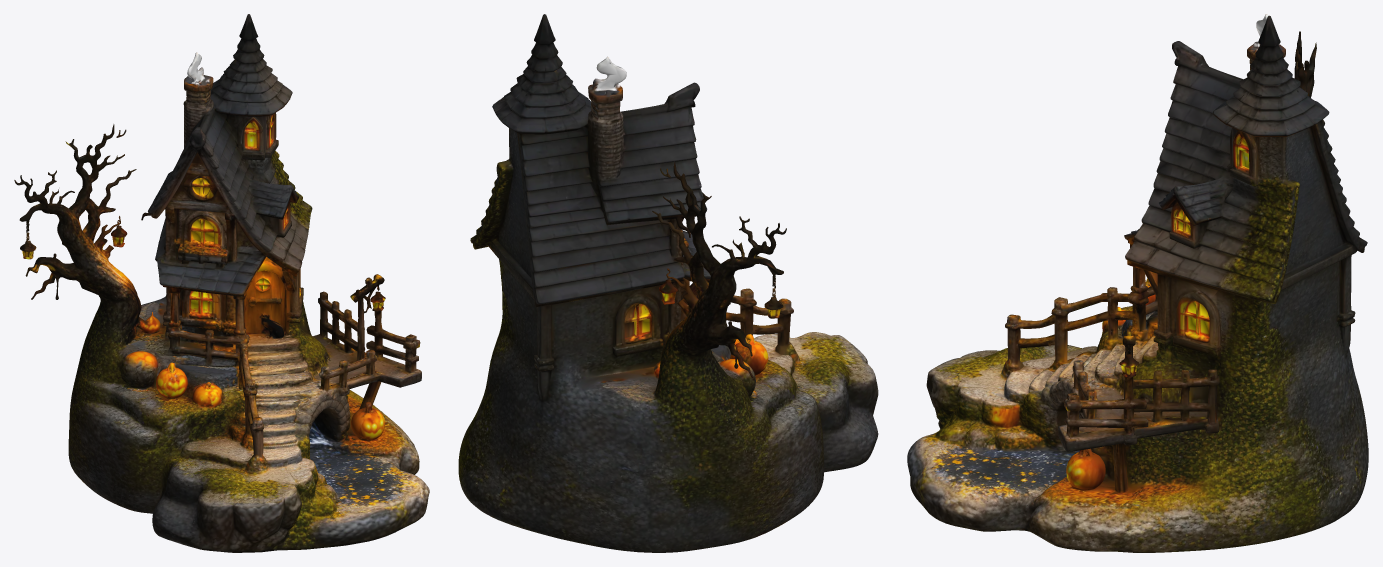
File: fantasy.glb
3 views of the same model, side by side, from view 1: azimuth 30°, elevation 25°; view 2: azimuth 150°, elevation 25°; view 3: azimuth 270°, elevation 25° (orthographic). The views are drawn at different scales.
Visible parts, largest first — view 1: node_0; view 2: node_0; view 3: node_0.
Part boxes in pixels (x1,y1,x2,y2): node_0: (14,14,429,552); node_0: (458,14,878,552); node_0: (907,14,1368,552).
Bounding box in the file's own units: 0.7152 × 0.8932 × 0.7701.
Materials: 1 (1 with a texture image).
